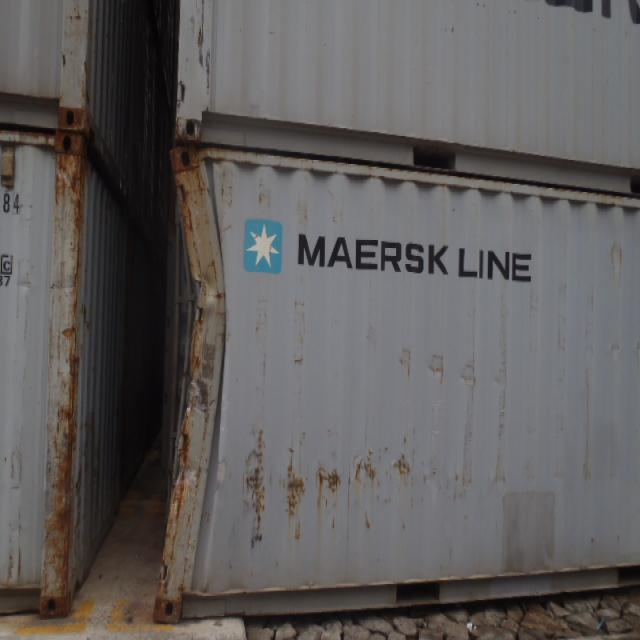dent: (158, 152, 233, 620), (399, 340, 538, 419)
